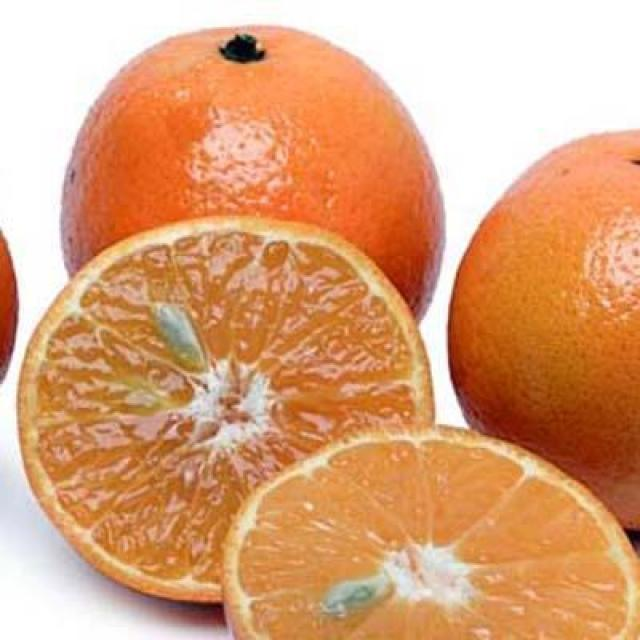10_tangerine: (16, 214, 438, 605), (57, 29, 449, 353), (222, 416, 640, 638), (446, 126, 640, 529)
